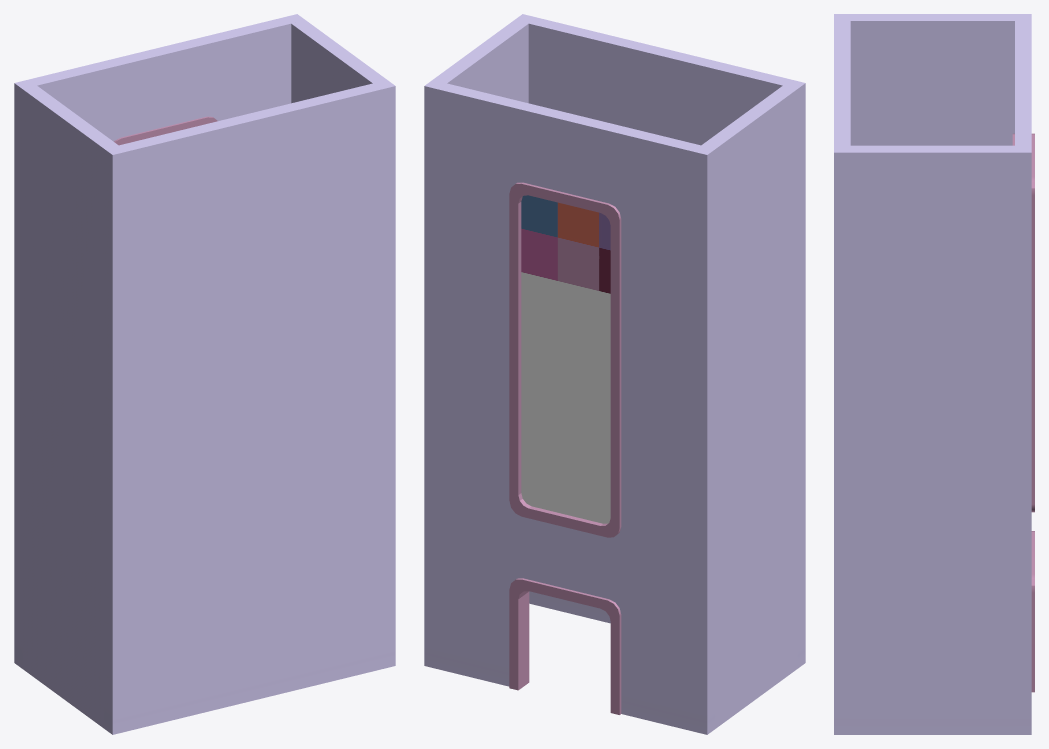
The model's file is Lift.fbx.
The picture shows the model from 3 angles, left to right: view 1: azimuth 30°, elevation 25°; view 2: azimuth 150°, elevation 25°; view 3: azimuth 270°, elevation 25°; orthographic projection.
Visible parts, largest first — view 1: Lift_Wall; view 2: Lift_Wall, LiftGlass; view 3: Lift_Wall.
Part boxes in pixels (box(x1,y1,x2,y2)): Lift_Wall: box(14, 14, 395, 734); Lift_Wall: box(424, 14, 805, 734); LiftGlass: box(521, 195, 610, 523); Lift_Wall: box(834, 14, 1034, 734).
Size of the model in its own units: 5.62 by 11 by 3.44.
